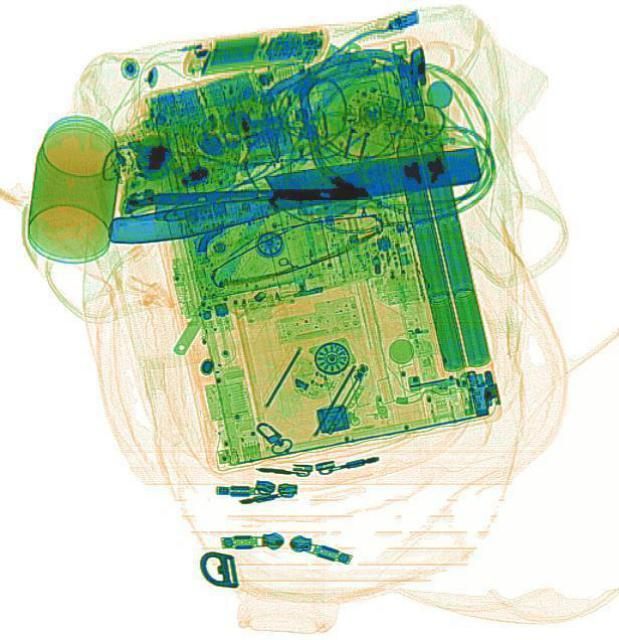Knife: (103, 142, 484, 248)
